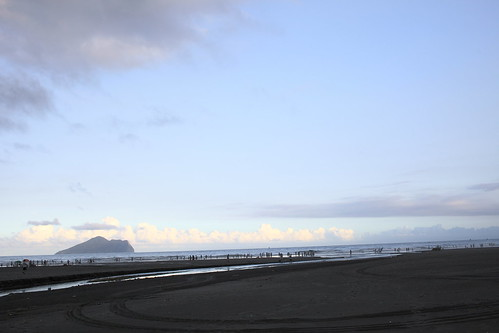turtleIsland: (54, 235, 135, 252)
